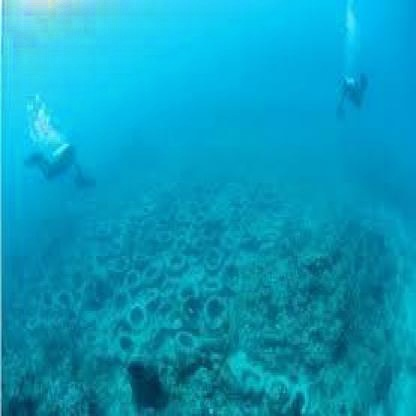tire: (171, 329, 201, 366), (177, 290, 203, 329), (204, 295, 230, 331), (203, 242, 228, 279), (164, 252, 192, 284), (123, 304, 152, 334)
